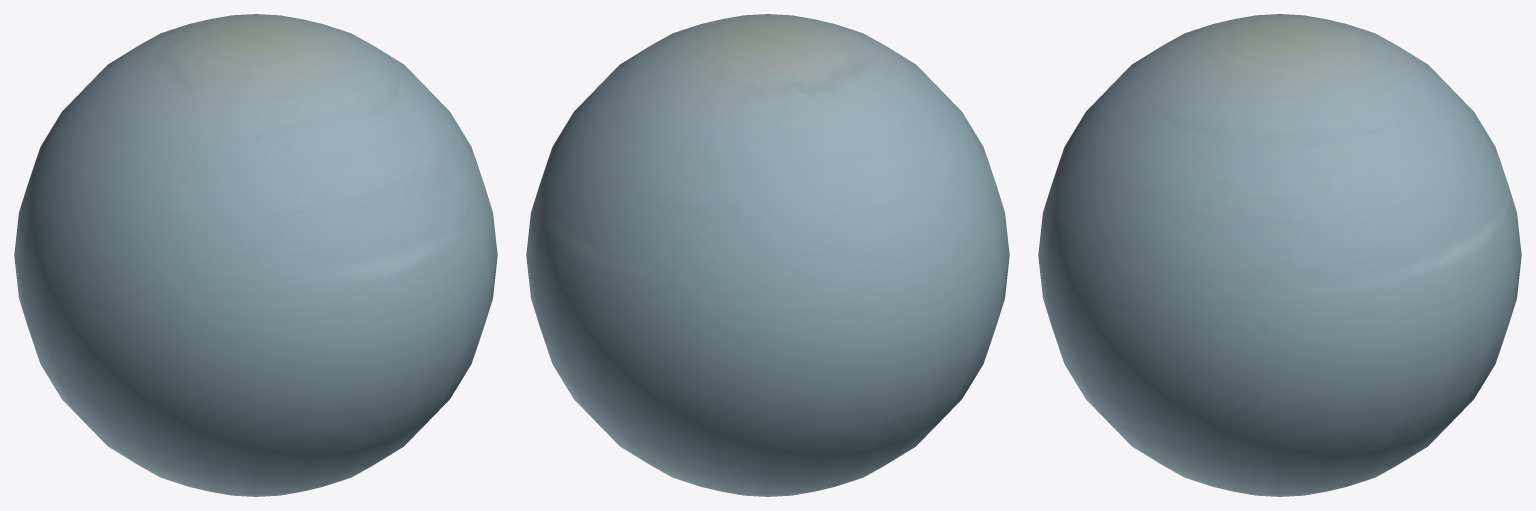
File: urano.dae
The picture shows the model from 3 angles, left to right: view 1: azimuth 30°, elevation 25°; view 2: azimuth 150°, elevation 25°; view 3: azimuth 270°, elevation 25°; orthographic projection.
Visible parts, largest first — view 1: Model; view 2: Model; view 3: Model.
Boxes of the visible parts, x1=… form: Model: x1=14, y1=14, x2=497, y2=496; Model: x1=526, y1=14, x2=1009, y2=496; Model: x1=1038, y1=14, x2=1521, y2=496.
Size of the model in its own units: 105 by 105 by 105.
Materials: 1 (1 with a texture image).
